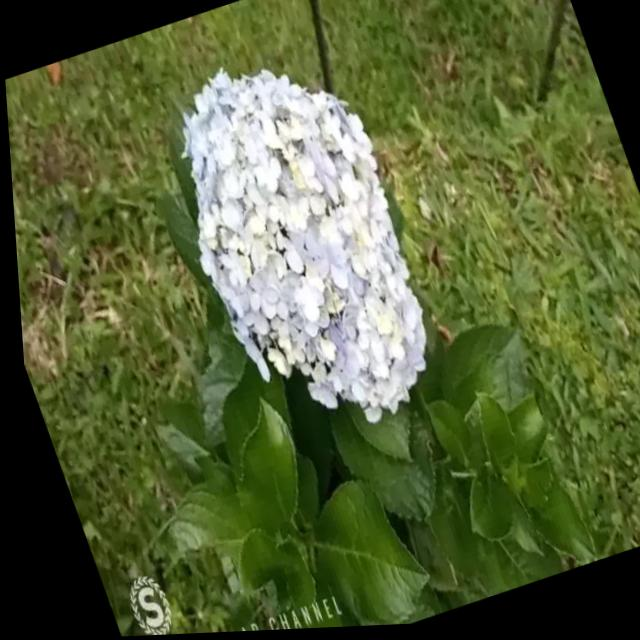Flower: (138, 28, 458, 464)
